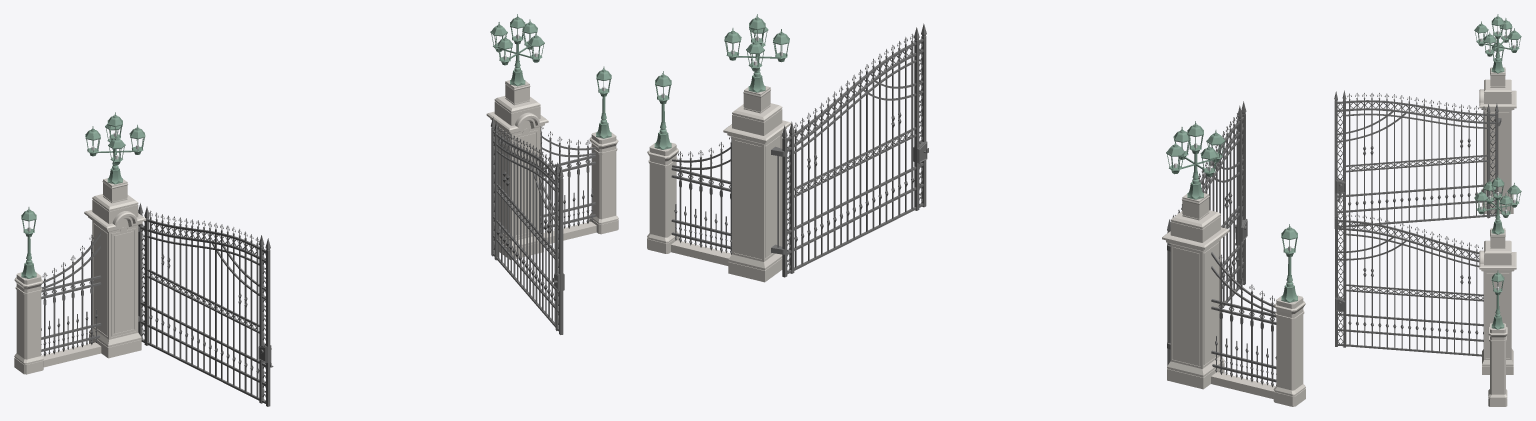
The model's file is 915_european_gate_open.glb.
3 views of the same model, side by side, from view 1: azimuth 30°, elevation 25°; view 2: azimuth 150°, elevation 25°; view 3: azimuth 270°, elevation 25° (orthographic). The views are drawn at different scales.
Visible parts, largest first — view 1: left, gate_left, right, gate_right; view 2: left, right, gate_right, gate_left; view 3: gate_left, gate_right, right, left.
Part boxes in pixels (x1=…): left: x1=14, y1=112, x2=146, y2=374; gate_left: x1=138, y1=203, x2=271, y2=406; right: x1=486, y1=14, x2=618, y2=259; gate_right: x1=491, y1=117, x2=564, y2=334; left: x1=1162, y1=121, x2=1305, y2=406; right: x1=647, y1=14, x2=790, y2=282; gate_right: x1=782, y1=23, x2=928, y2=277; gate_left: x1=1167, y1=101, x2=1247, y2=365; gate_left: x1=1334, y1=90, x2=1498, y2=228; gate_right: x1=1334, y1=208, x2=1483, y2=356; right: x1=1474, y1=175, x2=1521, y2=406; left: x1=1474, y1=14, x2=1521, y2=213.
Bounding box in the file's own units: 17.25 × 6.51 × 5.72.
